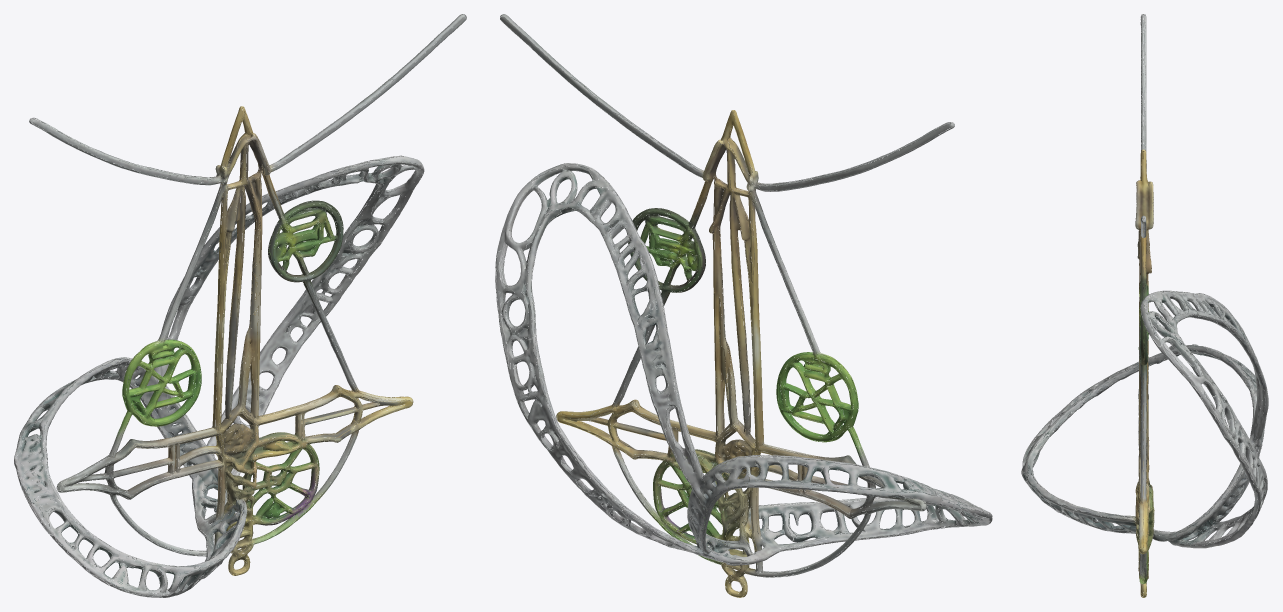
The model's file is _m7-clean.glb.
3 views of the same model, side by side, from view 1: azimuth 30°, elevation 25°; view 2: azimuth 150°, elevation 25°; view 3: azimuth 270°, elevation 25° (orthographic). The views are drawn at different scales.
Visible parts, largest first — view 1: world; view 2: world; view 3: world.
Boxes of the visible parts, x1,y1,x2,y2 form: world: (14,14,466,597); world: (495,14,992,597); world: (1021,14,1268,597).
Bounding box in the file's own units: 36.8 × 39.99 × 18.48.
Materials: 1 (1 with a texture image).
